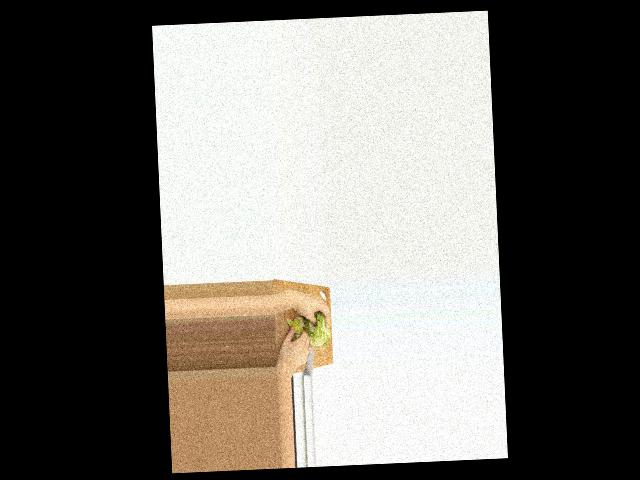lettuce: (305, 313, 329, 347)
